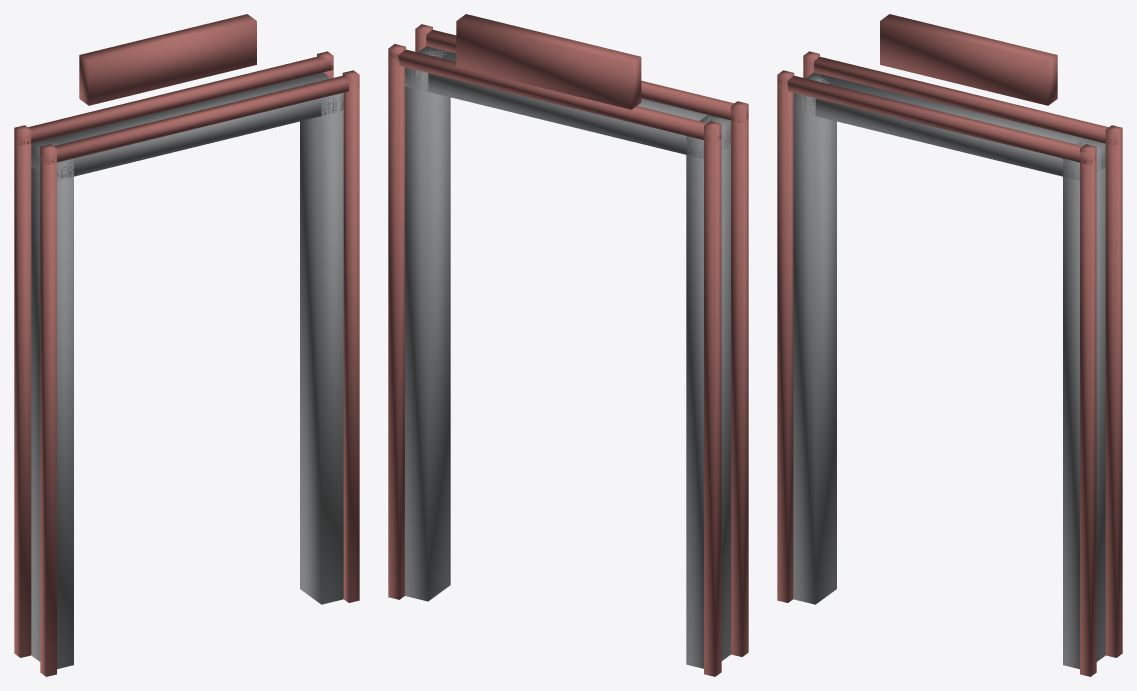
The model's file is doorway_emergency_exit_w106_h200_d16.glb.
The picture shows the model from 3 angles, left to right: view 1: azimuth 30°, elevation 25°; view 2: azimuth 150°, elevation 25°; view 3: azimuth 330°, elevation 25°; orthographic projection. The views are drawn at different scales.
Visible parts, largest first — view 1: world; view 2: world; view 3: world.
Boxes of the visible parts, x1=… form: world: x1=14, y1=14, x2=359, y2=676; world: x1=388, y1=14, x2=748, y2=676; world: x1=777, y1=14, x2=1122, y2=676.
Size of the model in its own units: 1.34 by 2.36 by 0.2939.
